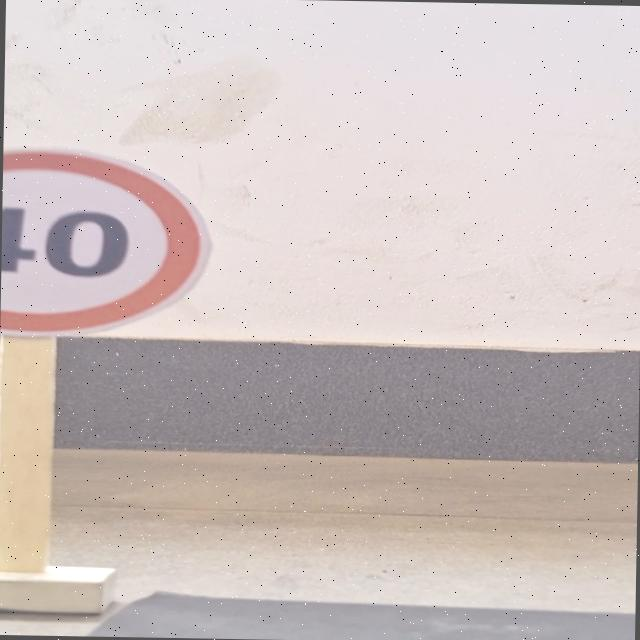Speed40: (0, 142, 222, 330)
